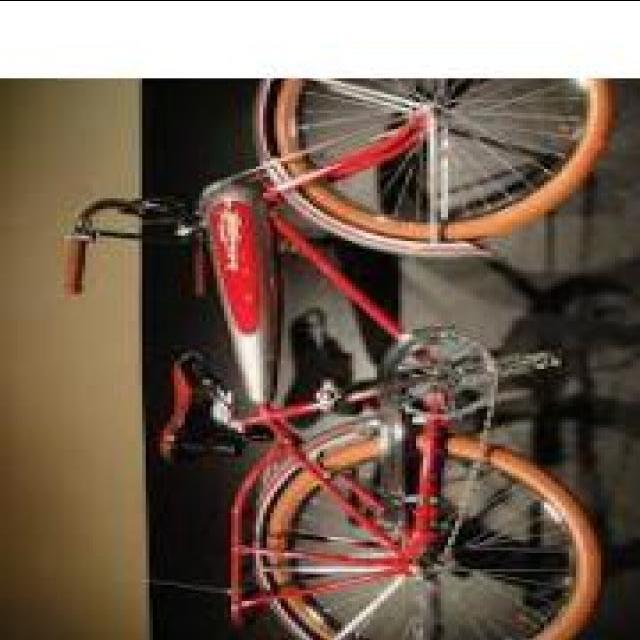bicycle: (161, 86, 637, 636)
